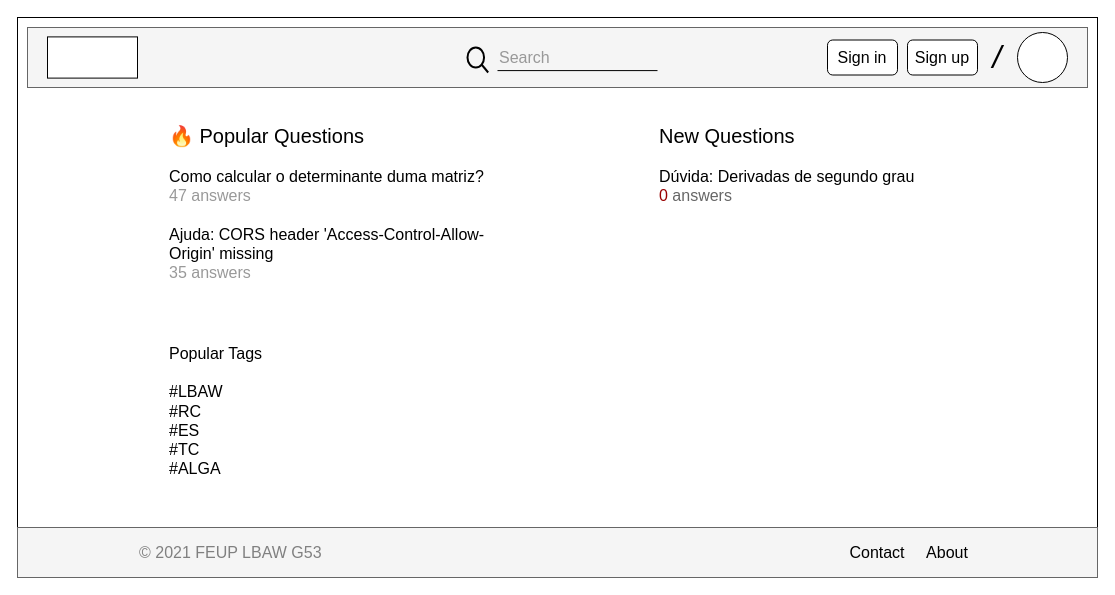
Some shapes in this 1115 by 595 pixel diagram are drawn without their labels. The centre of each missing label's shape, as x and y in pixels:
logo: the point at 92,57
usr pic: the point at 1042,57
